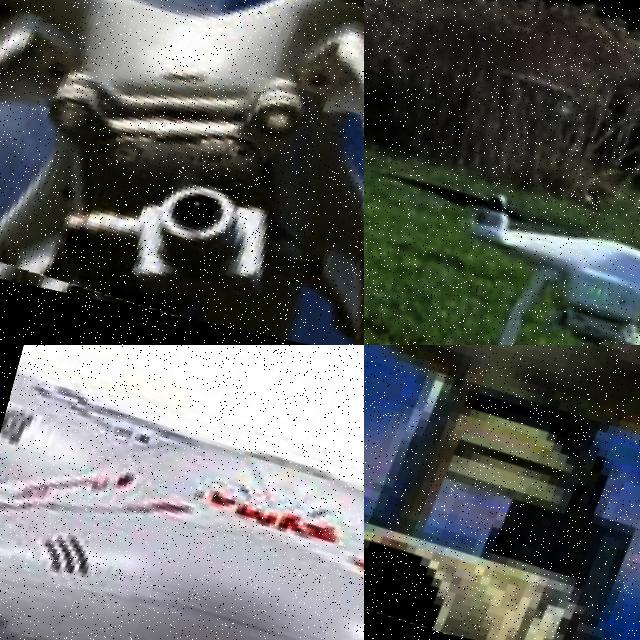0: (0, 0, 364, 345)
drone: (0, 345, 364, 640), (364, 345, 640, 640)
